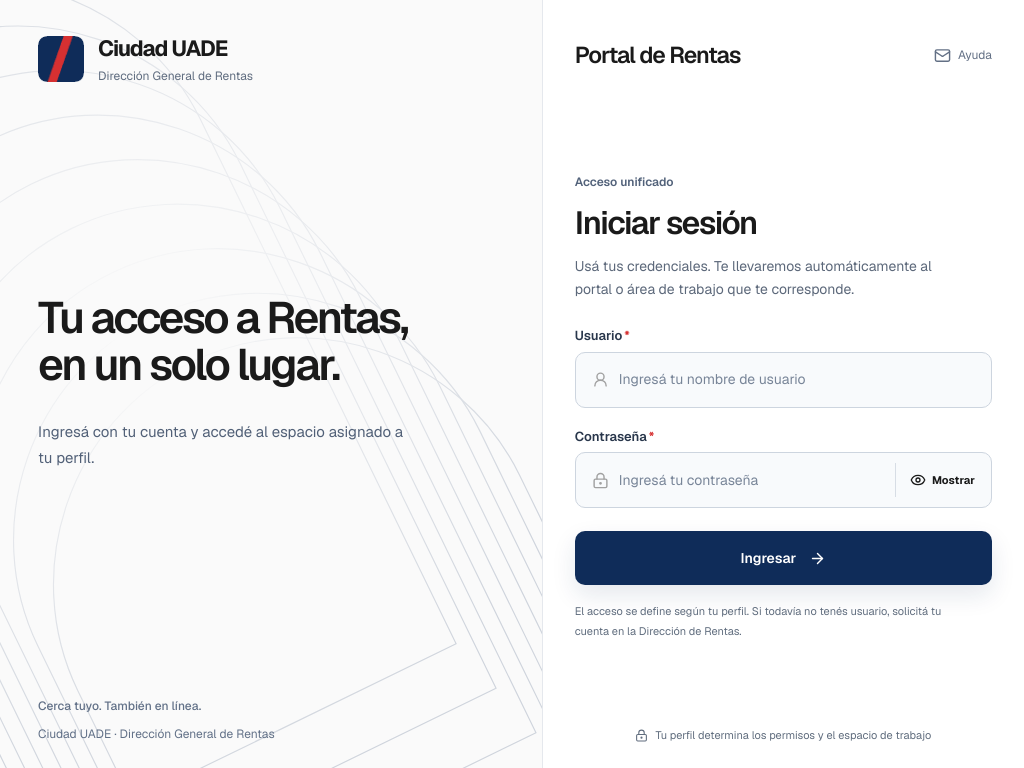
Test: ingreso al área de trabajo › el contribuyente entra a su portal
This screenshot has width=1024, height=768.
Type "jperez" into the field labelled "Usuario*".
click(797, 380); type("jperez")  # box [619,366,975,394]
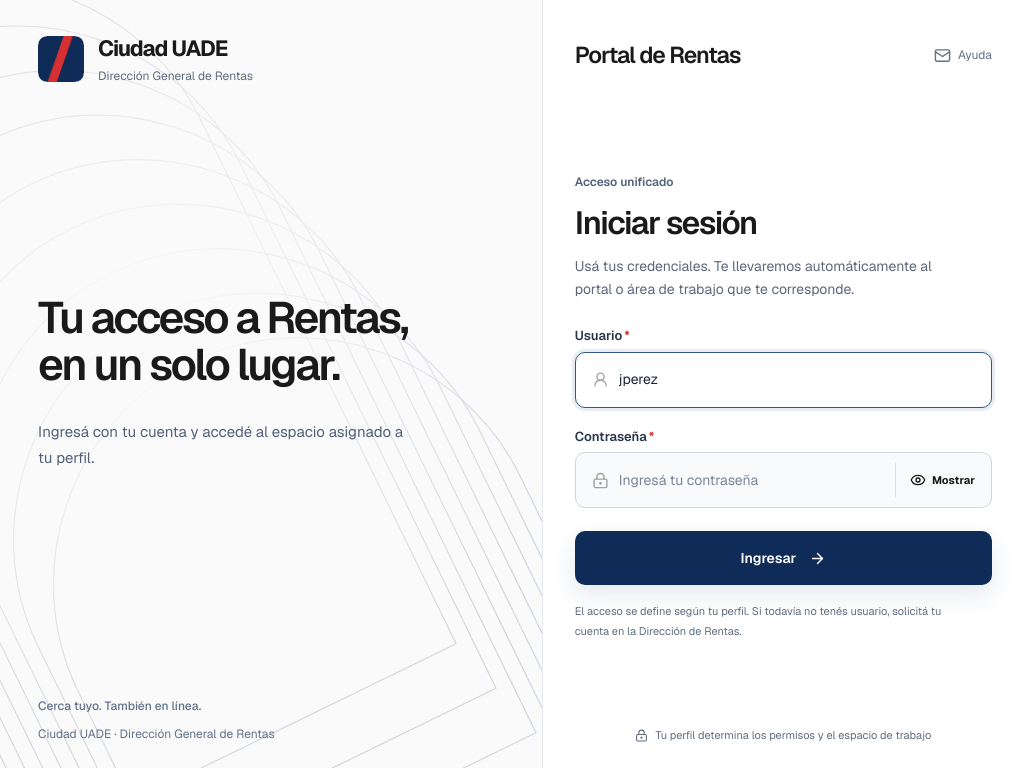
Type "ciudadano123" into the password field labelled "Contraseña*".
click(750, 480); type("ciudadano123")  # box [619,466,881,494]
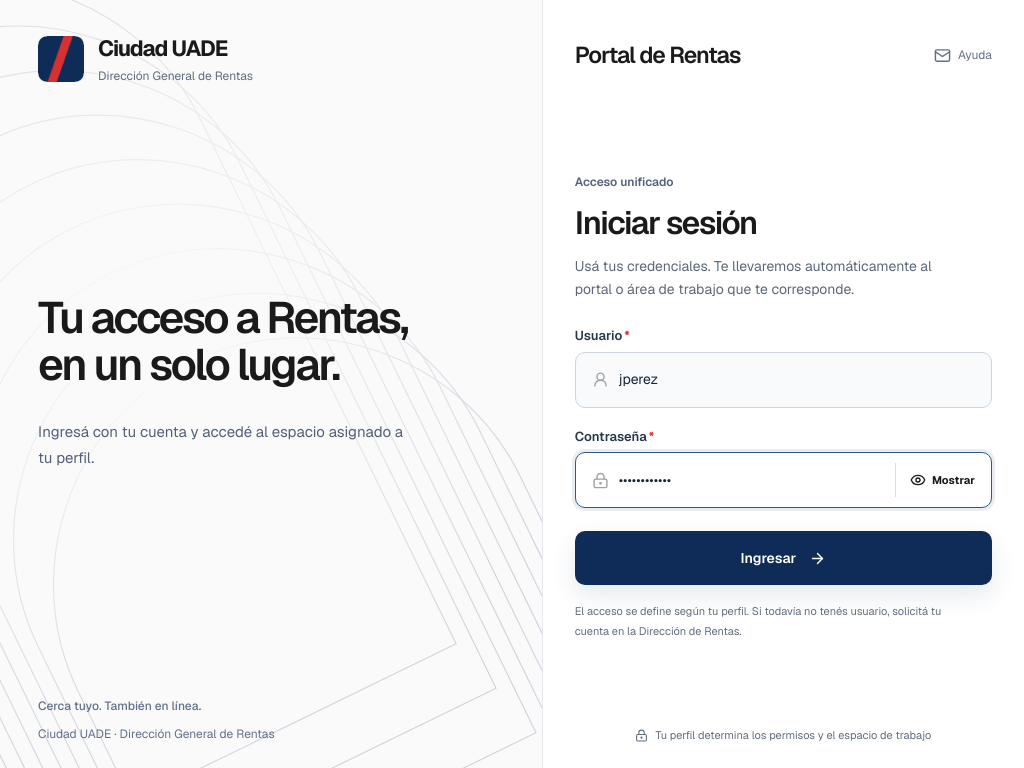
Click the button "Ingresar".
click(783, 558)  # box [575,531,992,585]
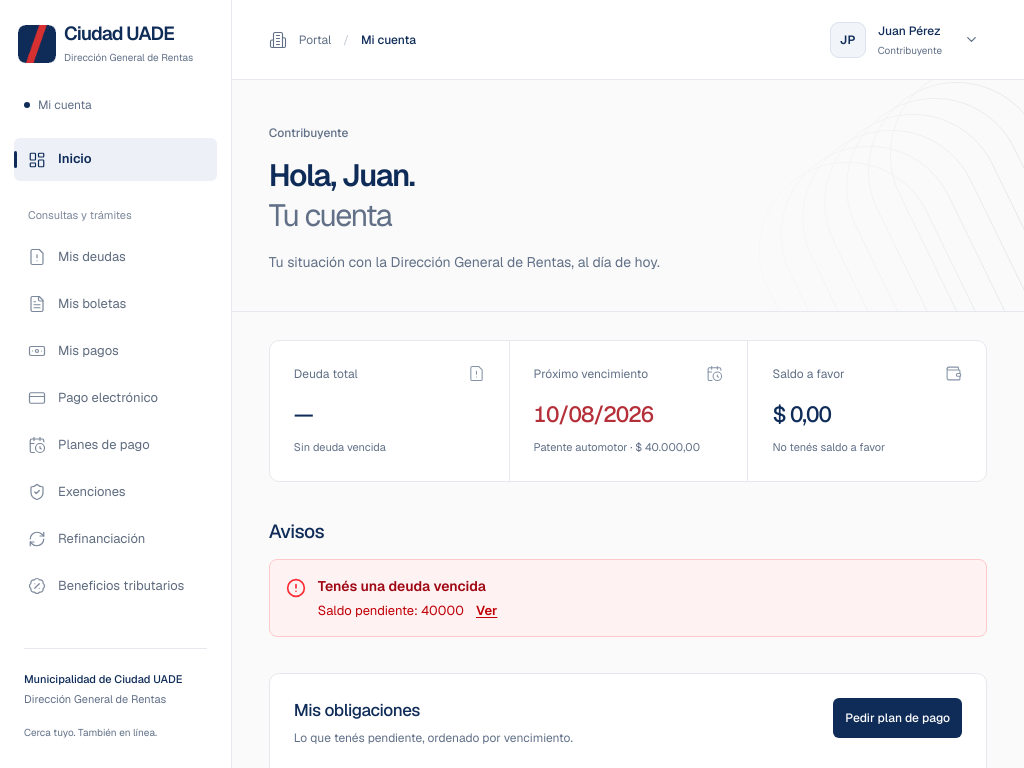
Result: the heading "Hola, Juan. Tu cuenta" is shown at [269,155,414,235]
